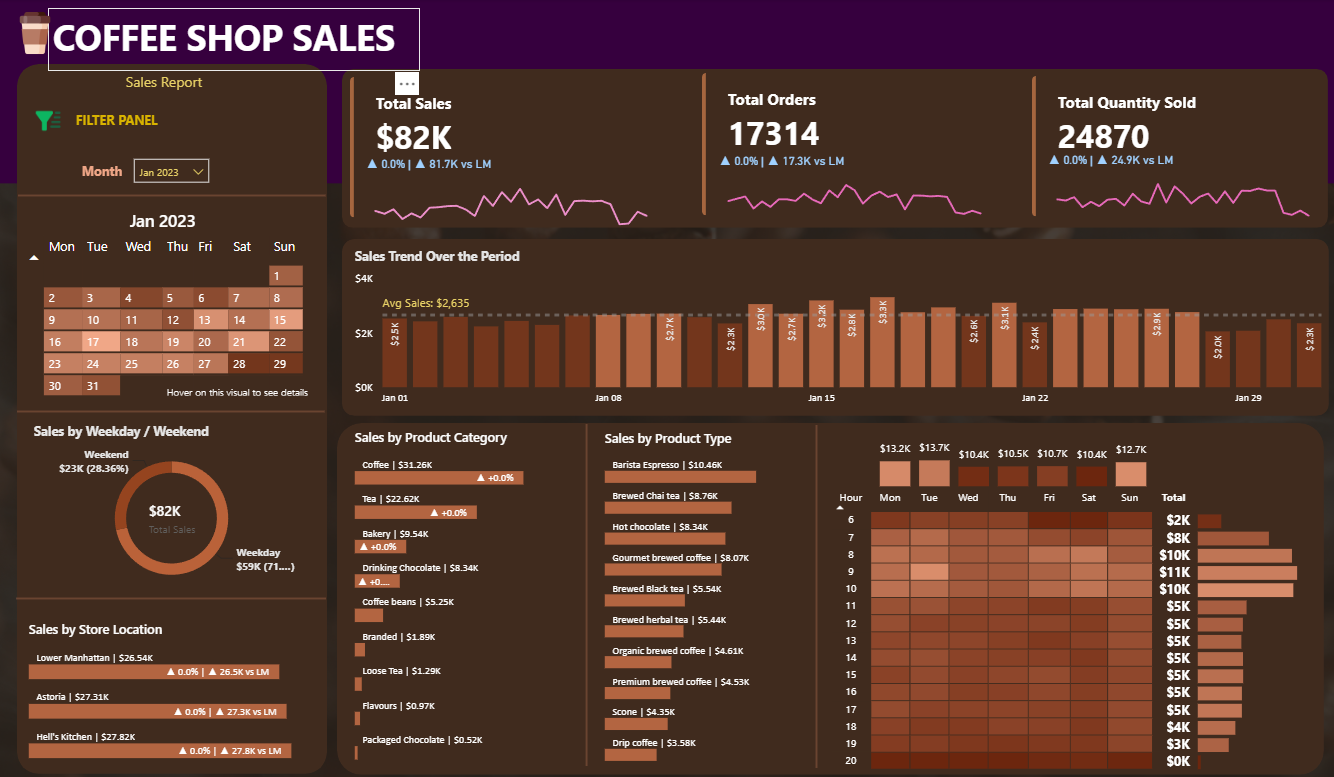

Layout of this report page (visuals, bound fields, positions):
{"tool":"powerbi","page":{"name":"Page 1","canvas":[1400,850],"ordinal":0},"visuals":[{"type":"shape","box":[0,0,1400,193.1],"z":0},{"type":"shape","box":[18.8,68,324.5,743.2],"z":1000},{"type":"shape","box":[359.1,73.3,1032.1,166.4],"z":2000},{"type":"textbox","box":[51.2,8.9,389.5,66.8],"z":3000},{"type":"cardVisual","fields":{"Data":["Transactions.Total Orders"]},"box":[735.9,77.5,288.4,154.1],"z":4000,"group":"g2"},{"type":"cardVisual","fields":{"Data":["Transactions.Total Quantity Sold"]},"box":[1080.9,81,282.6,152.8],"z":4000,"group":"g3"},{"type":"cardVisual","fields":{"Data":["Transactions.Total Sales"]},"box":[367.4,81.7,305.7,152.8],"z":4000,"group":"g1"},{"type":"slicer","fields":{"Values":["Date Table.Month Year"]},"box":[136.1,162.3,89,36.6],"z":4000},{"type":"group","id":"g1","title":"Group 1","box":[367.4,81.7,325.6,161.2],"z":5000},{"type":"group","id":"g2","title":"Group 1","box":[735.9,77.5,306.7,162.3],"z":6000},{"type":"lineChart","fields":{"Category":["Date Table.Date Hierarchy.Date"],"Y":["Transactions.Total Quantity Sold"]},"box":[1092.4,161.6,293.1,76.4],"z":6000,"group":"g3"},{"type":"lineChart","fields":{"Category":["Date Table.Date Hierarchy.Date"],"Y":["Transactions.Total Orders"]},"box":[748.5,162.3,294.2,77.5],"z":6000,"group":"g2"},{"type":"lineChart","fields":{"Y":["Transactions.Total Sales"],"Category":["Date Table.Date Hierarchy.Date"]},"box":[378.9,165.4,314,77.5],"z":6000,"group":"g1"},{"type":"group","id":"g3","title":"Group 1","box":[1080.9,81,304.6,157],"z":7000},{"type":"pivotTable","fields":{"Rows":["Date Table.Week Number"],"Columns":["Date Table.Day Name"],"Values":["Min(Date Table.Day Number)"]},"box":[22.3,242.6,311.6,189.2],"z":8000},{"type":"cardVisual","fields":{"Data":["Min(Date Table.Month Year)"]},"box":[107.8,192.6,140.3,75.4],"z":9000},{"type":"cardVisual","fields":{"Data":["Transactions.Foot Note"]},"box":[146.6,386.3,212.5,46.1],"z":10000},{"type":"shape","box":[18.8,406.2,322.4,51.3],"z":11000},{"type":"shape","box":[19.9,180,322.4,51.3],"z":12000},{"type":"donutChart","title":"Sales by Weekday / Weekend","fields":{"Category":["Date Table.Weekday / Weekend"],"Y":["Transactions.Total Sales"]},"box":[31.4,443.8,298.3,182.1],"z":13000},{"type":"cardVisual","fields":{"Data":["Transactions.Total Sales"]},"box":[127.7,508.7,132.9,69.1],"z":14000},{"type":"shape","box":[17.8,601.9,324.5,51.3],"z":15000},{"type":"clusteredBarChart","title":"Sales by Store Location","fields":{"Category":["Transactions.store_location"],"Y":["Transactions.Placeholder","Transactions.Total Sales"]},"box":[26.2,651.1,309.9,150.7],"z":16000},{"type":"shape","box":[359.1,251.2,1033.2,185.3],"z":17000},{"type":"columnChart","title":"Sales Trend Over the Period","fields":{"Category":["Transactions.transaction_date"],"Y":["Transactions.Total Sales"]},"box":[367.4,260.7,1023.8,172.7],"z":18000},{"type":"shape","box":[353.8,443.8,1033.2,368.5],"z":19000},{"type":"clusteredBarChart","title":"Sales by Product Category","fields":{"Y":["Transactions.Placeholder","Transactions.Total Sales"],"Category":["Transactions.product_category"]},"box":[367.2,449.6,235.9,351.7],"z":20000},{"type":"shape","box":[601.1,444.8,28.4,358.5],"z":21000},{"type":"clusteredBarChart","title":"Sales by Product Type","fields":{"Y":["Transactions.Placeholder","Transactions.Total Sales"],"Category":["Transactions.product_type"]},"box":[629.5,451.4,237.2,351.9],"z":22000},{"type":"shape","box":[840.6,445.9,30.4,359.1],"z":23000},{"type":"pivotTable","fields":{"Rows":["Transactions.Hour"],"Values":["Transactions.Total Sales"],"Columns":["Date Table.Day Name"]},"box":[866.7,508.7,393.6,303.6],"z":24000},{"type":"barChart","fields":{"Category":["Transactions.Hour"],"Y":["Transactions.Total Sales"]},"box":[1249.9,526.5,114.1,284.7],"z":25000},{"type":"columnChart","title":"Sales by Day | Hour","fields":{"Y":["Transactions.Total Sales"],"Category":["Date Table.Day Name"]},"box":[917,445.9,290,70.1],"z":26000},{"type":"textbox","box":[81.7,166.4,58.6,27.2],"z":27000},{"type":"textbox","box":[127.7,71.2,108.9,41.9],"z":28000},{"type":"textbox","box":[75.4,113.1,103.6,29.3],"z":29000},{"type":"image","box":[35.6,113.1,30.4,29.3],"z":30000},{"type":"image","box":[13.6,13.6,48.2,44],"z":31000}]}

Visuals, with their boxes on the page's 1400x850 design canvas (x1, y1, x2, y2). These are canvas units, not pixel positions in the 1334x777 screenshot, which may show the page scaled, cropped or inside an application window:
shape: <region>0, 0, 1400, 193</region>
shape: <region>19, 68, 343, 811</region>
shape: <region>359, 73, 1391, 240</region>
textbox: <region>51, 9, 441, 76</region>
cardVisual - Transactions.Total Orders: <region>736, 78, 1024, 232</region>
cardVisual - Transactions.Total Quantity Sold: <region>1081, 81, 1364, 234</region>
cardVisual - Transactions.Total Sales: <region>367, 82, 673, 234</region>
slicer - Date Table.Month Year: <region>136, 162, 225, 199</region>
"Group 1" group: <region>367, 82, 693, 243</region>
"Group 1" group: <region>736, 78, 1043, 240</region>
lineChart - Date Table.Date Hierarchy.Date x Transactions.Total Quantity Sold: <region>1092, 162, 1386, 238</region>
lineChart - Date Table.Date Hierarchy.Date x Transactions.Total Orders: <region>748, 162, 1043, 240</region>
lineChart - Transactions.Total Sales x Date Table.Date Hierarchy.Date: <region>379, 165, 693, 243</region>
"Group 1" group: <region>1081, 81, 1386, 238</region>
pivotTable - Date Table.Week Number x Date Table.Day Name: <region>22, 243, 334, 432</region>
cardVisual - Min(Date Table.Month Year): <region>108, 193, 248, 268</region>
cardVisual - Transactions.Foot Note: <region>147, 386, 359, 432</region>
shape: <region>19, 406, 341, 458</region>
shape: <region>20, 180, 342, 231</region>
"Sales by Weekday / Weekend" donutChart: <region>31, 444, 330, 626</region>
cardVisual - Transactions.Total Sales: <region>128, 509, 261, 578</region>
shape: <region>18, 602, 342, 653</region>
"Sales by Store Location" clusteredBarChart: <region>26, 651, 336, 802</region>
shape: <region>359, 251, 1392, 436</region>
"Sales Trend Over the Period" columnChart: <region>367, 261, 1391, 433</region>
shape: <region>354, 444, 1387, 812</region>
"Sales by Product Category" clusteredBarChart: <region>367, 450, 603, 801</region>
shape: <region>601, 445, 630, 803</region>
"Sales by Product Type" clusteredBarChart: <region>630, 451, 867, 803</region>
shape: <region>841, 446, 871, 805</region>
pivotTable - Transactions.Hour x Transactions.Total Sales: <region>867, 509, 1260, 812</region>
barChart - Transactions.Hour x Transactions.Total Sales: <region>1250, 526, 1364, 811</region>
"Sales by Day | Hour" columnChart: <region>917, 446, 1207, 516</region>
textbox: <region>82, 166, 140, 194</region>
textbox: <region>128, 71, 237, 113</region>
textbox: <region>75, 113, 179, 142</region>
image: <region>36, 113, 66, 142</region>
image: <region>14, 14, 62, 58</region>
